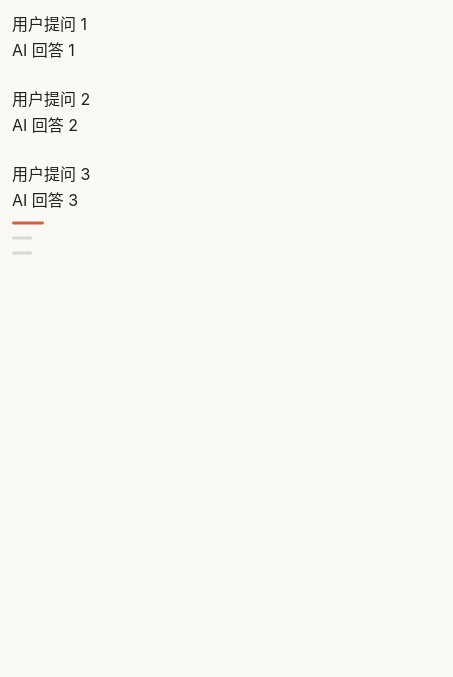
it: TurnRailNav 轮次导航 › 预览框按实测尺寸固定在视口内：滚动后仍与被预览线中心对齐
Hover over the 2nd button with class "turn-rail__tick" at (22,238), box [12,236,32,239]
Wait 501 ms
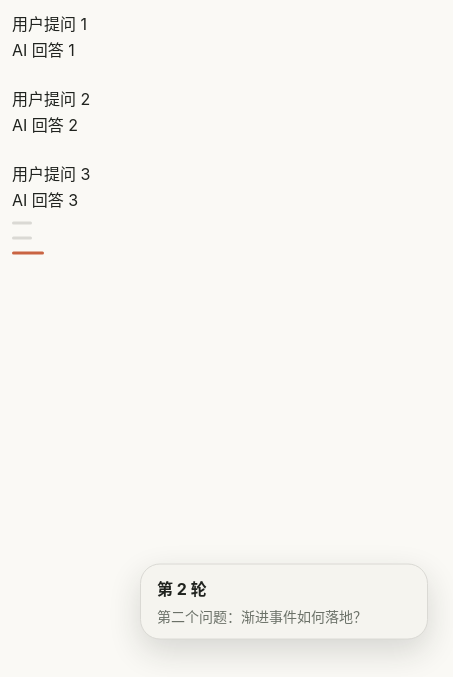
Expected: the tooltip with class "turn-rail__preview" is shown, [140,563,428,640]
